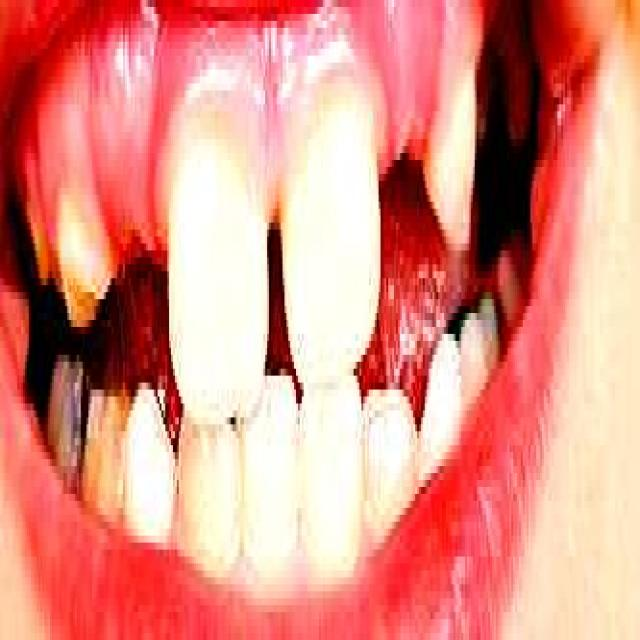caries: (55, 191, 107, 340), (50, 349, 94, 506)
